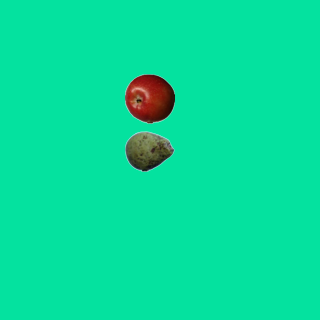Apple Braeburn: (124, 73, 174, 123)
Pear Stone: (124, 126, 174, 176)
